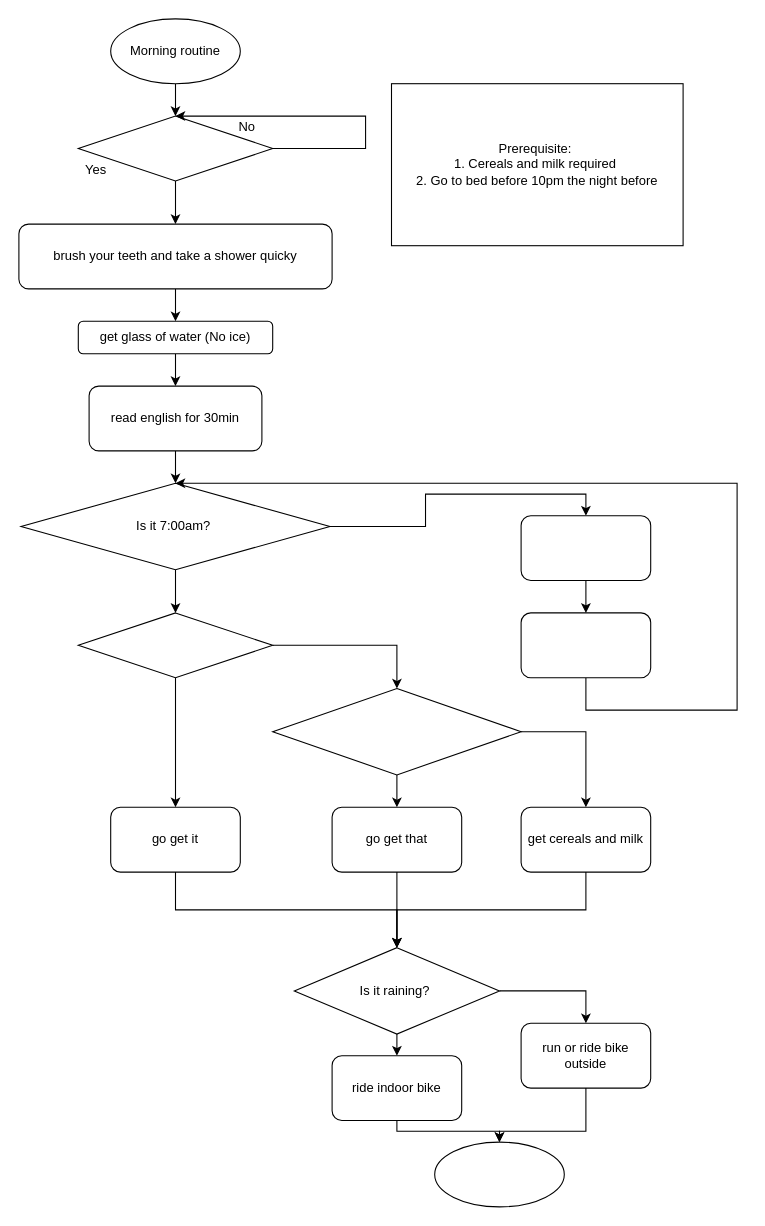
This 765x1226 diagram has some shape labels left out. Here are the shapes that lost their labels. From the top down, the box of each, then its label:
(77, 115, 273, 181): Is it 4:30am?
(520, 515, 651, 580): watch drama "SUITS"
(77, 612, 273, 678): Does breakfast ready?
(520, 612, 651, 678): embody actor
(272, 687, 521, 775): Can you implement just in 10min?
(434, 1141, 564, 1207): Go get your dream~!
